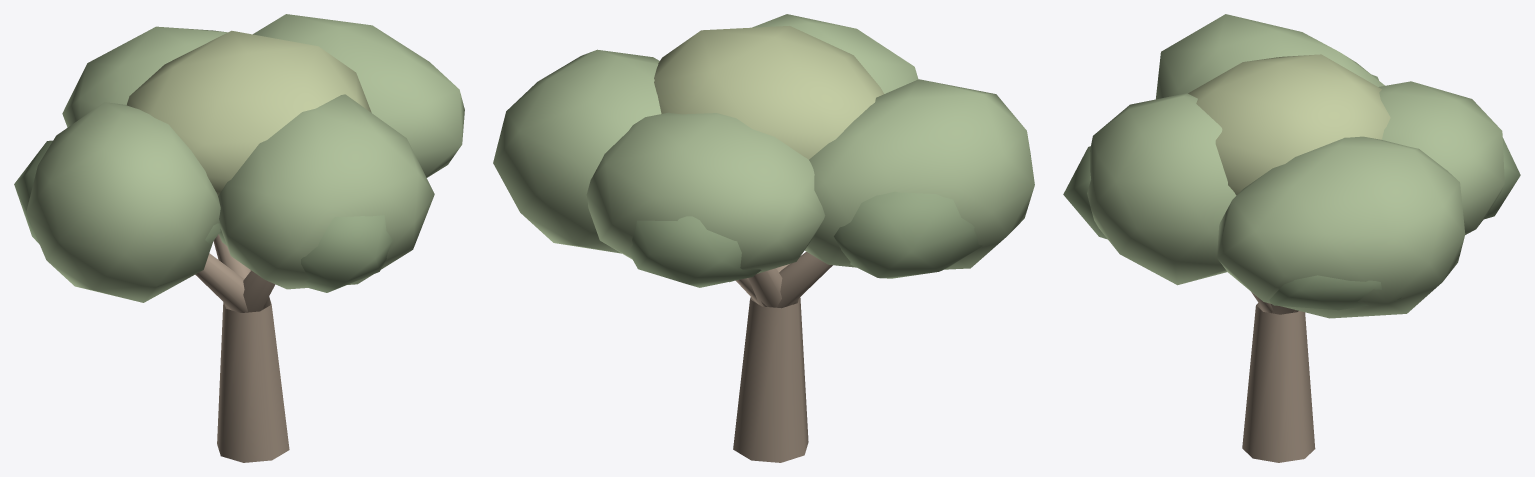
File: tree_ombu_6.glb
3 renders of one model, left to right at view 1: azimuth 30°, elevation 25°; view 2: azimuth 150°, elevation 25°; view 3: azimuth 270°, elevation 25°, orthographic. The views are drawn at different scales.
Parts seen in each view (by area): view 1: tree_ombu_6.glb; view 2: tree_ombu_6.glb; view 3: tree_ombu_6.glb.
Part boxes in pixels (x1,y1,x2,y2): tree_ombu_6.glb: [14, 14, 464, 462]; tree_ombu_6.glb: [493, 14, 1034, 462]; tree_ombu_6.glb: [1063, 14, 1520, 462].
Size of the model in its own units: 6.53 by 5.58 by 6.01.
